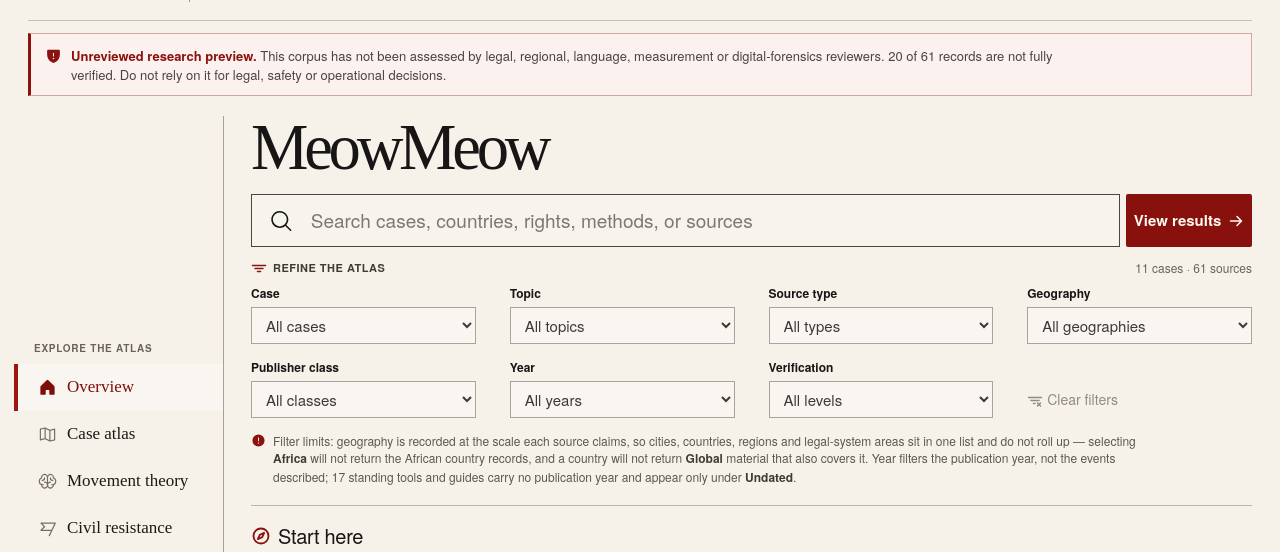
Test case: atlas filtering › expanding a list preserves the reader's search
Type "Finance Bill" into the search field labelled "Search cases, countries, rights, methods, or sources" at (706, 221), box [311,206,1102,235]
(page scrolled)
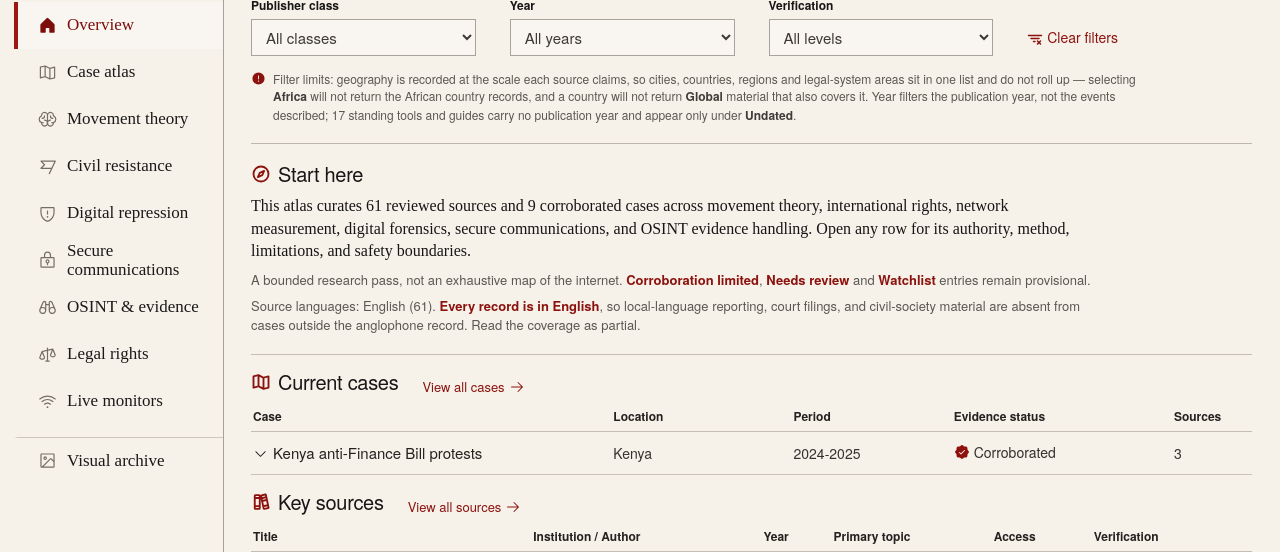
Click the button "View all sources" at (464, 507), box [408,497,521,516]
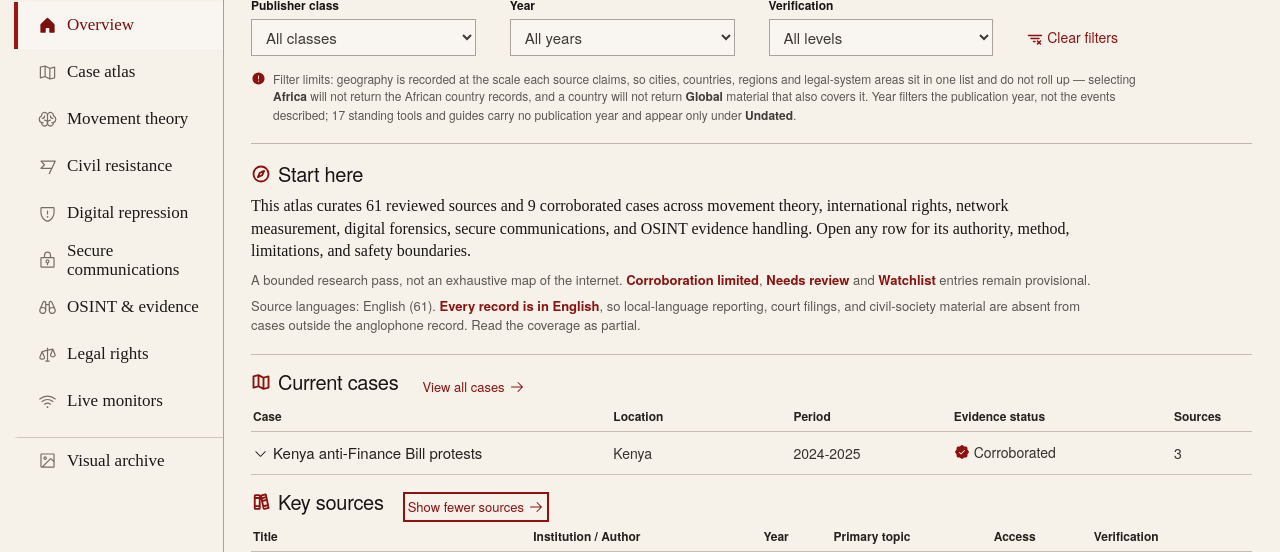
Now the button "Show fewer sources" is shown, box [408,497,544,516]
